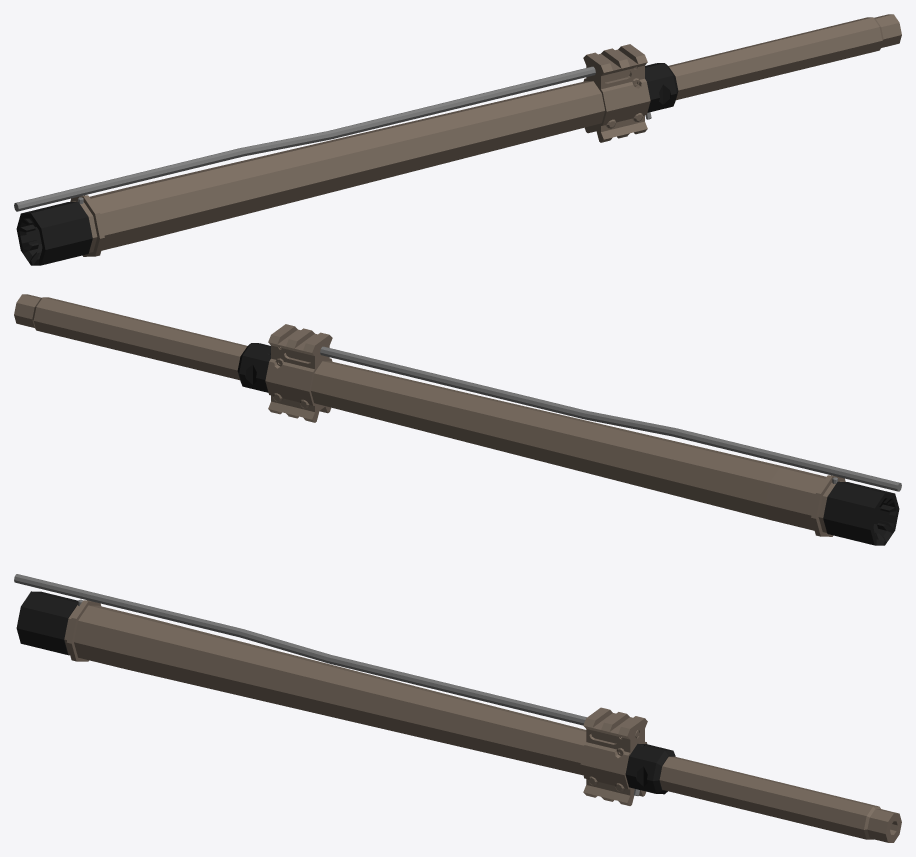
Rendered from m110_sass_barrel.glb.
3 renders of one model, top to bottom at view 1: azimuth 30°, elevation 25°; view 2: azimuth 150°, elevation 25°; view 3: azimuth 330°, elevation 25°, orthographic.
Parts seen in each view (by area): view 1: m110 762 20in barrel_5 (×3); view 2: m110 762 20in barrel_5 (×3); view 3: m110 762 20in barrel_5 (×3).
Part boxes in pixels (x1,y1,x2,y2): m110 762 20in barrel_5 (×3): (14,14,901,265); m110 762 20in barrel_5 (×3): (14,294,901,545); m110 762 20in barrel_5 (×3): (14,574,901,842).
Bounding box in the file's own units: 5.17 × 0.4351 × 0.339.
